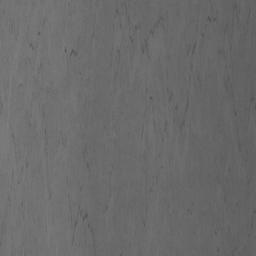Silk spot: (0, 0, 256, 256), (48, 176, 96, 256), (217, 176, 256, 256), (215, 141, 248, 178)
